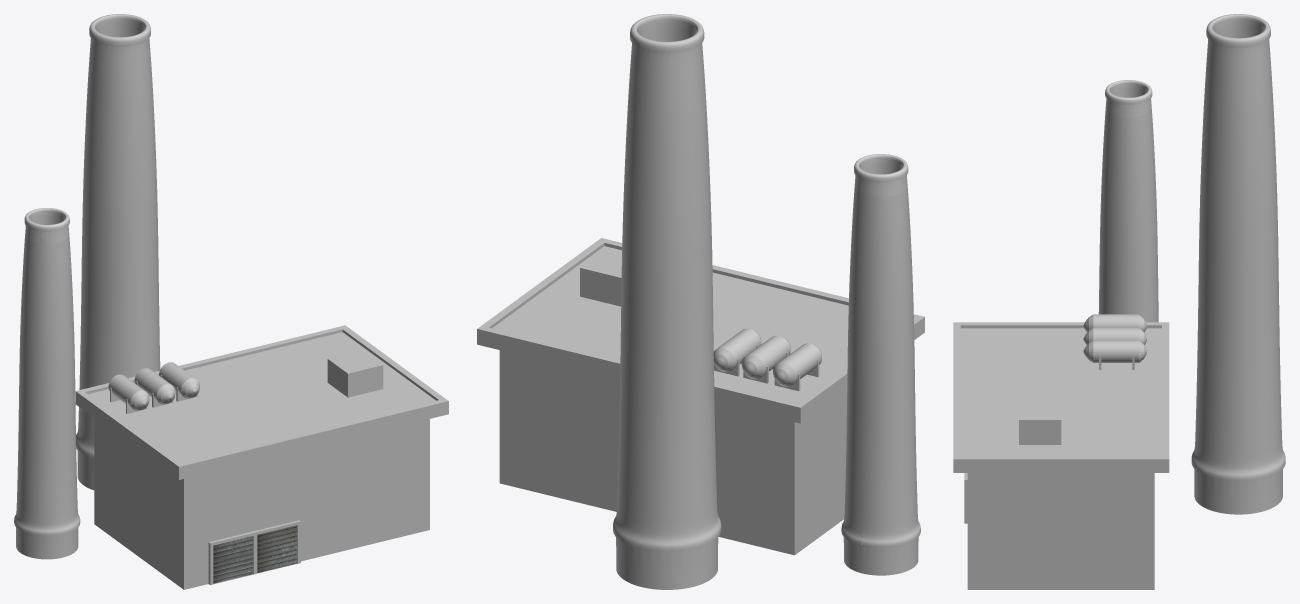
Rendered from ferbrick texturen.fbx.
3 renders of one model, left to right at view 1: azimuth 30°, elevation 25°; view 2: azimuth 150°, elevation 25°; view 3: azimuth 270°, elevation 25°, orthographic. The views are drawn at different scales.
Parts seen in each view (by area): view 1: Cube, Cylinder, Cylinder.001; view 2: Cube, Cylinder, Cylinder.001; view 3: Cube, Cylinder, Cylinder.001.
Part boxes in pixels (x1=…): Cube: x1=75, y1=325, x2=448, y2=589; Cylinder: x1=76, y1=14, x2=160, y2=490; Cylinder.001: x1=14, y1=208, x2=80, y2=559; Cube: x1=477, y1=238, x2=924, y2=555; Cylinder: x1=613, y1=14, x2=721, y2=589; Cylinder.001: x1=841, y1=154, x2=920, y2=575; Cube: x1=953, y1=314, x2=1169, y2=589; Cylinder: x1=1191, y1=14, x2=1285, y2=514; Cylinder.001: x1=1098, y1=80, x2=1158, y2=322.
Size of the model in its own units: 2976 by 3720 by 2376.
